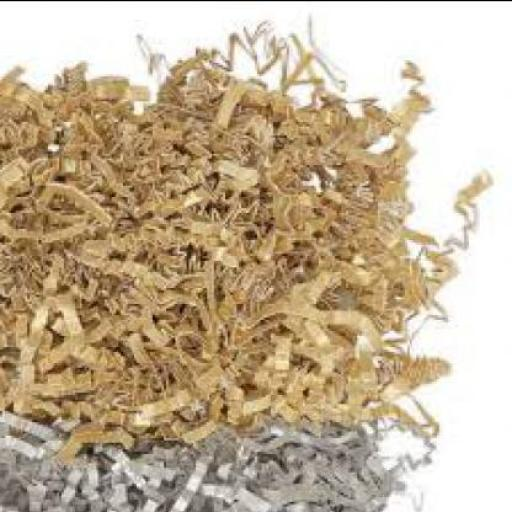paper: (2, 11, 496, 510), (2, 20, 488, 444), (2, 423, 424, 510)
